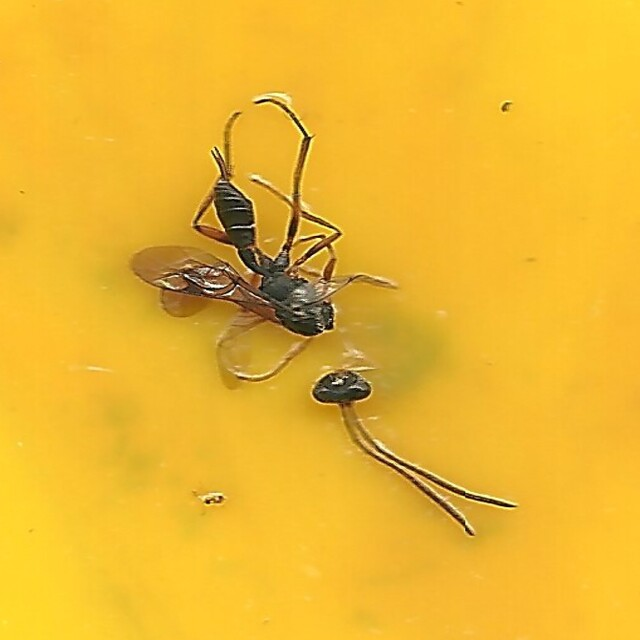Hymenoptera: (126, 96, 514, 544)
